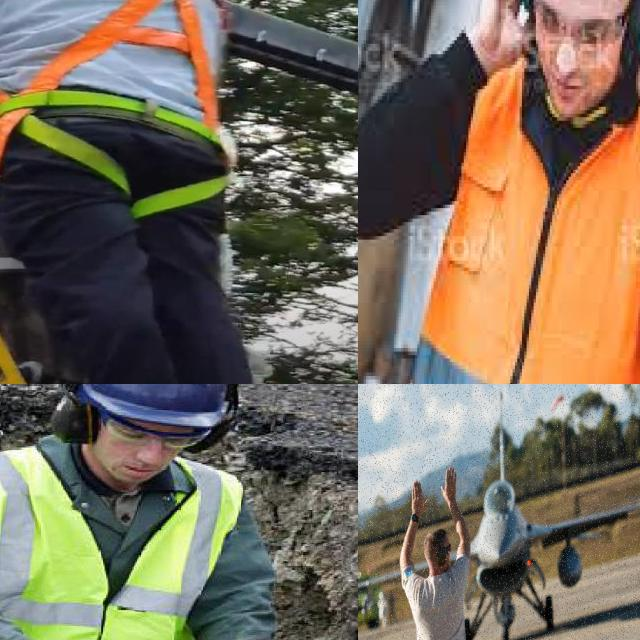Ear-protection: (39, 384, 251, 451), (422, 534, 455, 596), (626, 0, 640, 61)
Harness: (0, 0, 236, 227)
glasses: (524, 0, 631, 47), (92, 416, 221, 452)
head_nohelmet: (424, 524, 452, 564)
person: (358, 0, 640, 384), (0, 384, 315, 640), (386, 461, 493, 640)
vest: (0, 453, 213, 640)
